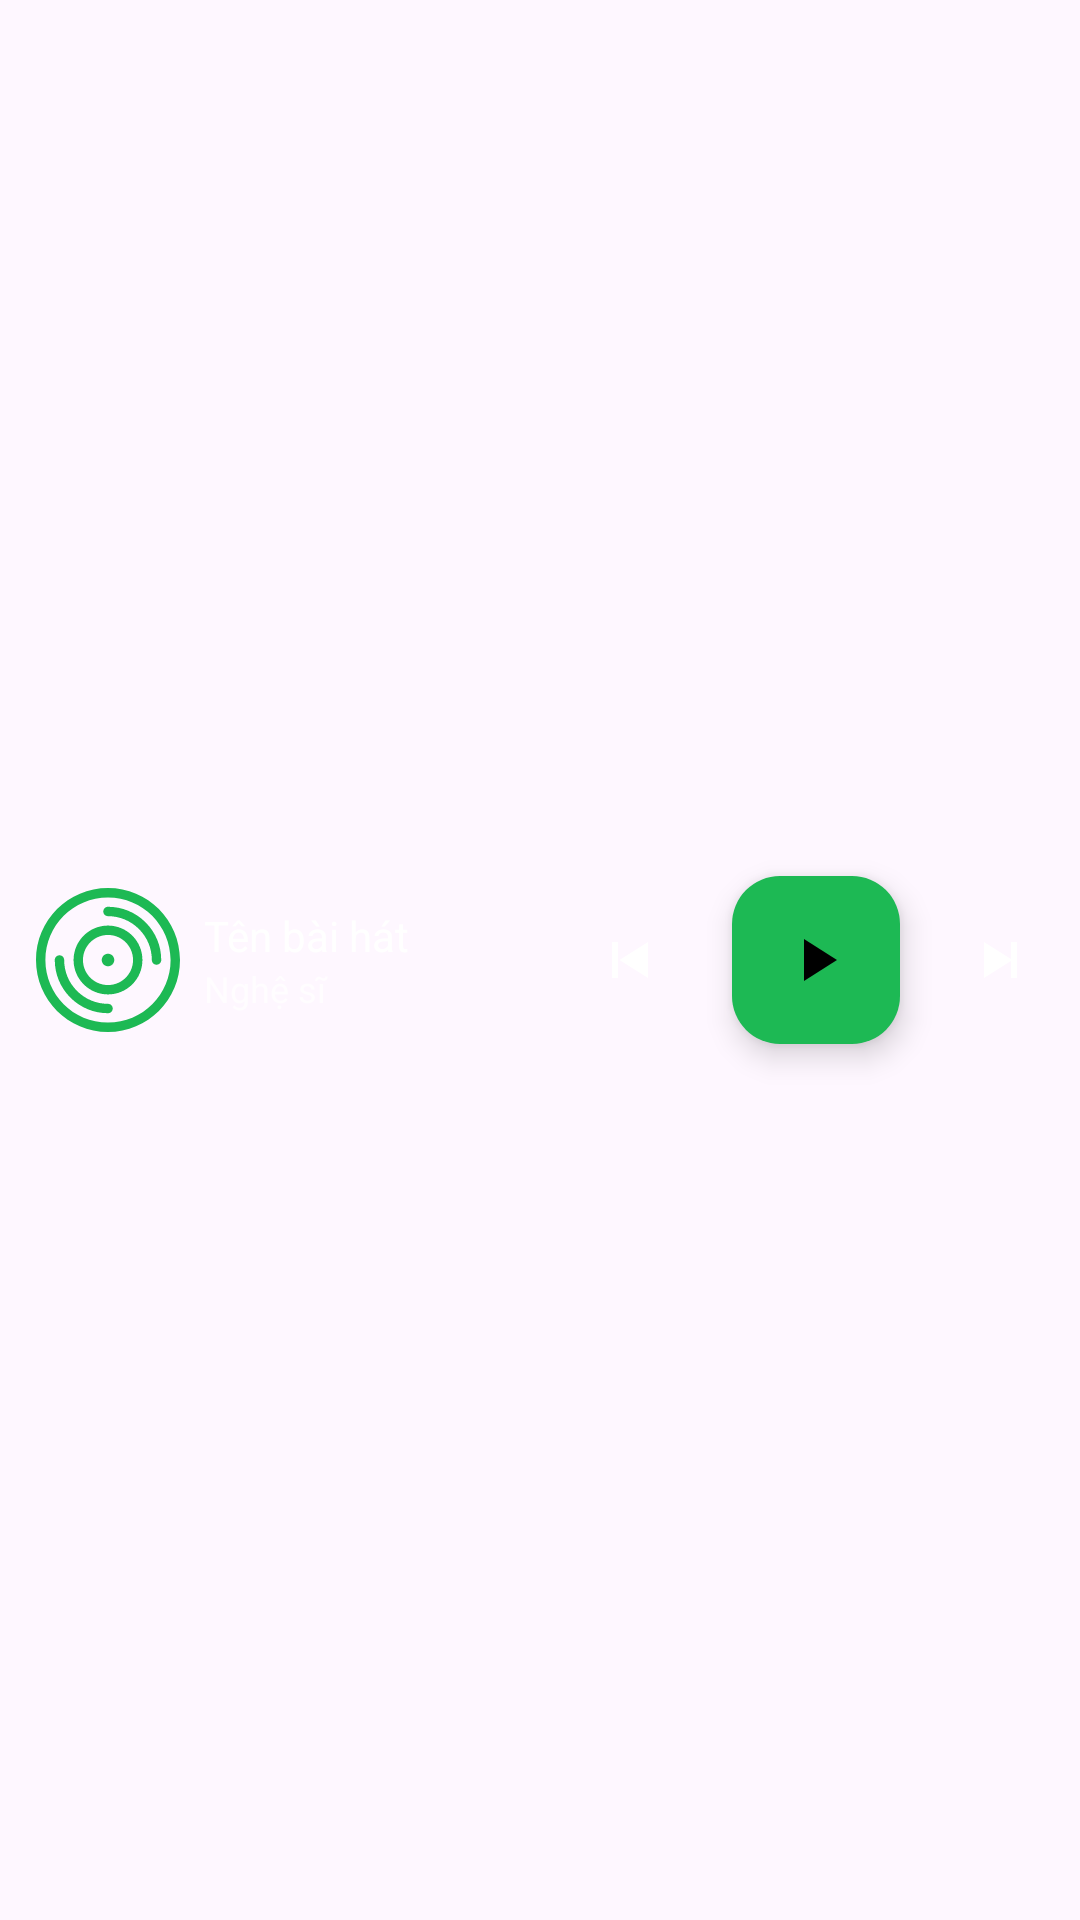

Screen size 1080w x 1920h. Icon name, then its box in pixels as (x1, y1, x2, y2):
music: (36, 888, 180, 1032)
Phát/Tạm dừng: (732, 876, 900, 1044)
